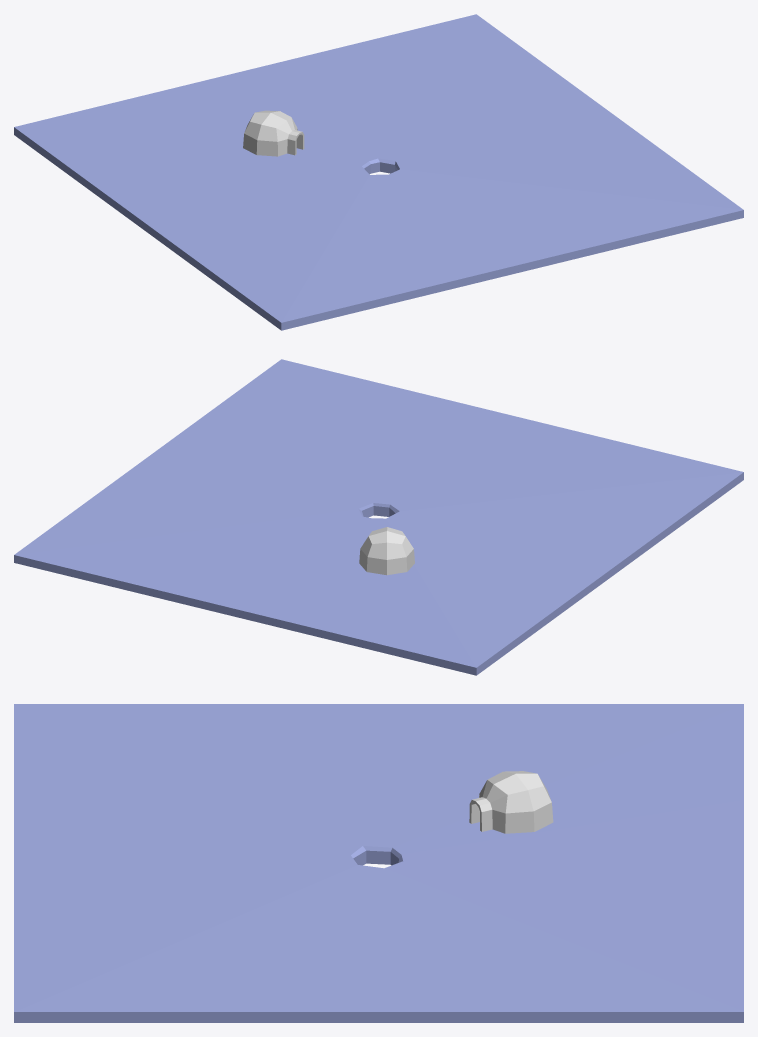
Rendered from level_var1.fbx.
3 renders of one model, top to bottom at view 1: azimuth 30°, elevation 25°; view 2: azimuth 150°, elevation 25°; view 3: azimuth 270°, elevation 25°, orthographic. The views are drawn at different scales.
Visible parts, largest first — view 1: ground.base, igloo.base; view 2: ground.base, igloo.base; view 3: ground.base, igloo.base.
Part boxes in pixels (x1,y1,x2,y2): ground.base: (14, 14, 743, 330); igloo.base: (243, 110, 304, 156); ground.base: (14, 359, 743, 675); igloo.base: (359, 527, 414, 575); ground.base: (14, 704, 743, 1022); igloo.base: (469, 771, 553, 833).
Bounding box in the file's own units: 2995 × 270 × 3000.
